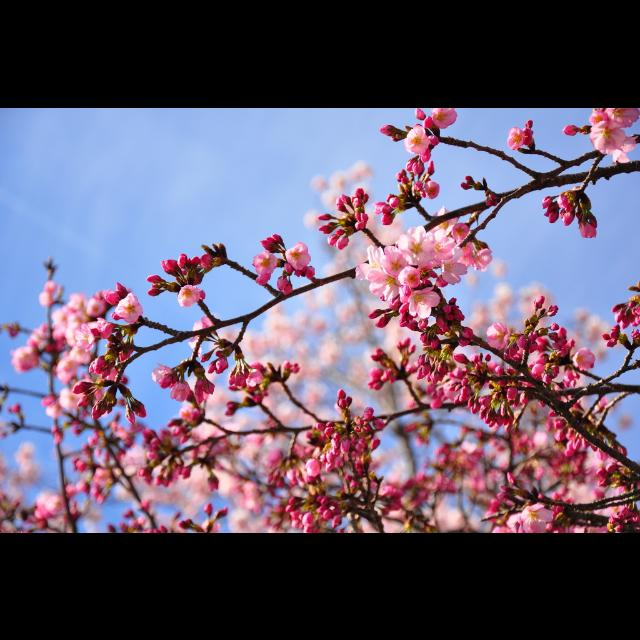Flower: (1, 108, 640, 532), (256, 225, 316, 282)
